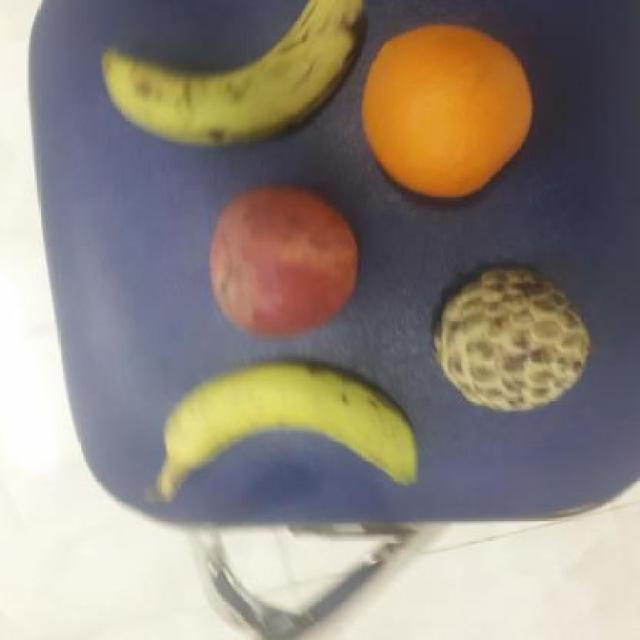apple: (204, 186, 364, 343)
banana: (98, 1, 364, 155), (143, 362, 423, 504)
oren: (355, 21, 538, 201)
sugar apple: (425, 260, 593, 417)
